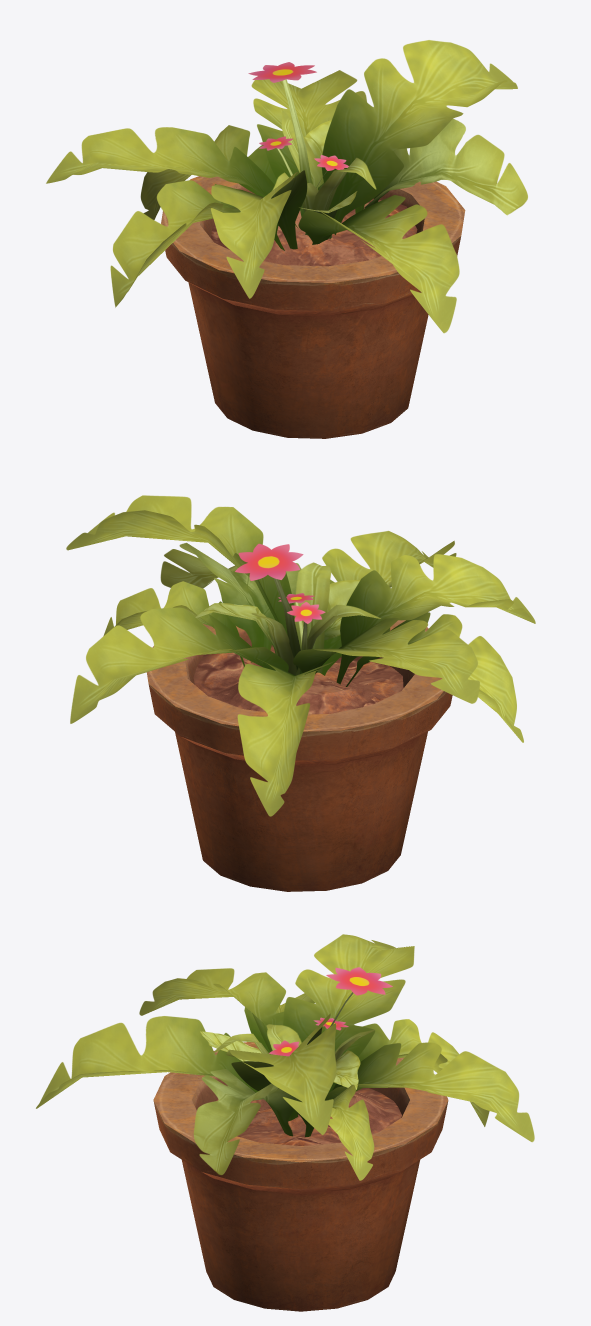
The model's file is stylized_flower_pot.glb.
3 renders of one model, top to bottom at view 1: azimuth 30°, elevation 25°; view 2: azimuth 150°, elevation 25°; view 3: azimuth 270°, elevation 25°, orthographic. The views are drawn at different scales.
Visible parts, largest first — view 1: Plants, FlowerPot, Flowers; view 2: Plants, FlowerPot, Flowers; view 3: Plants, FlowerPot, Flowers.
Boxes of the visible parts, x1,y1,x2,y2 form: Plants: (46,40,527,333); FlowerPot: (161,176,465,438); Flowers: (248,62,348,217); Plants: (66,495,535,816); FlowerPot: (146,620,452,891); Flowers: (235,543,325,673); Plants: (36,934,534,1180); FlowerPot: (153,1042,448,1311); Flowers: (269,967,392,1056).
Bounding box in the file's own units: 0.8374 × 0.5249 × 0.855.
Materials: 2 (2 with a texture image).
